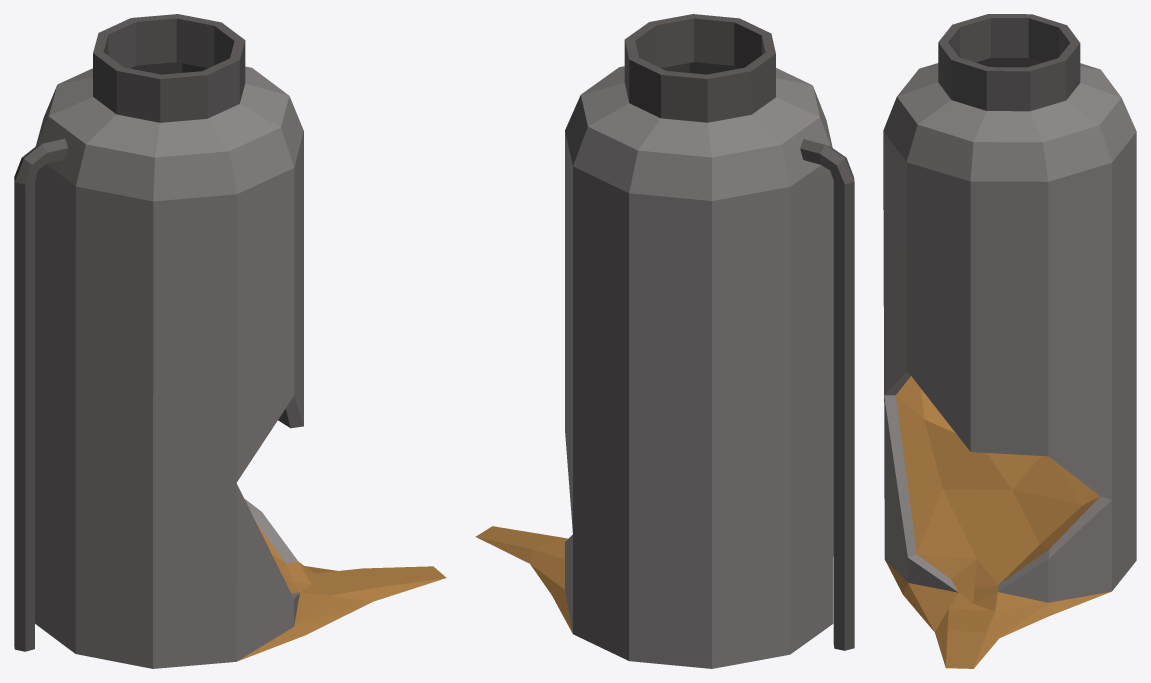
File: apocalypse_silo-hole-big.fbx
The picture shows the model from 3 angles, left to right: view 1: azimuth 30°, elevation 25°; view 2: azimuth 150°, elevation 25°; view 3: azimuth 270°, elevation 25°; orthographic projection. The views are drawn at different scales.
Parts seen in each view (by area): view 1: apocalypse_silo_hole_big; view 2: apocalypse_silo_hole_big; view 3: apocalypse_silo_hole_big.
Part boxes in pixels (bbox=[...]): apocalypse_silo_hole_big: bbox=[14, 14, 446, 668]; apocalypse_silo_hole_big: bbox=[475, 14, 854, 668]; apocalypse_silo_hole_big: bbox=[883, 14, 1136, 668].
Size of the model in its own units: 148 by 200 by 88.88.
